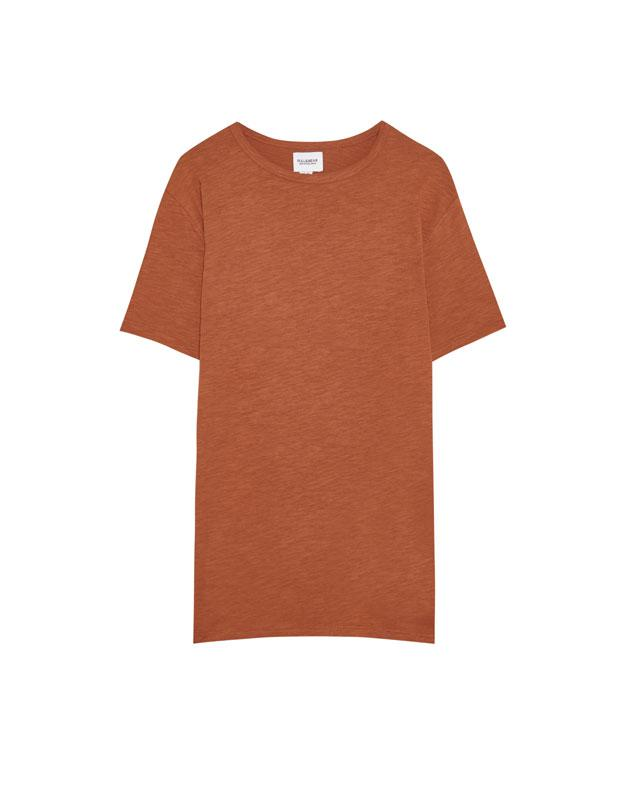teeshirt: (90, 103, 545, 689)
